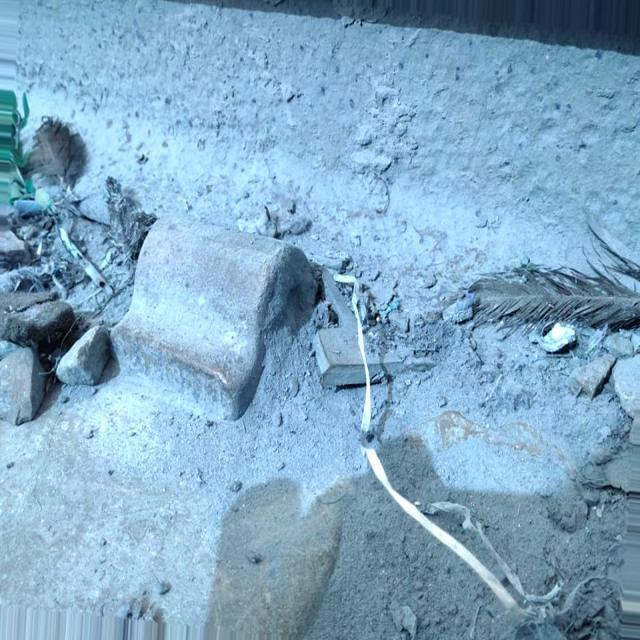Missing Fastener: (111, 220, 317, 420)
